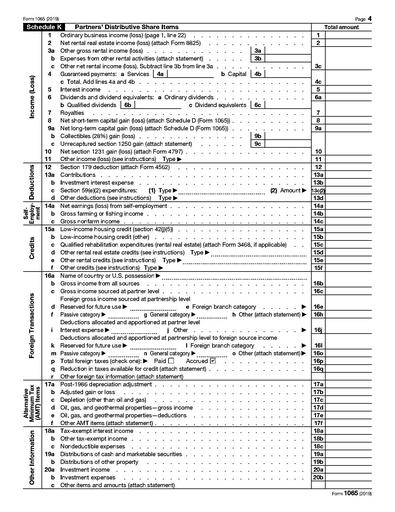filled checkbox: (211, 358, 217, 365)
unfilled checkbox: (169, 359, 175, 365)
